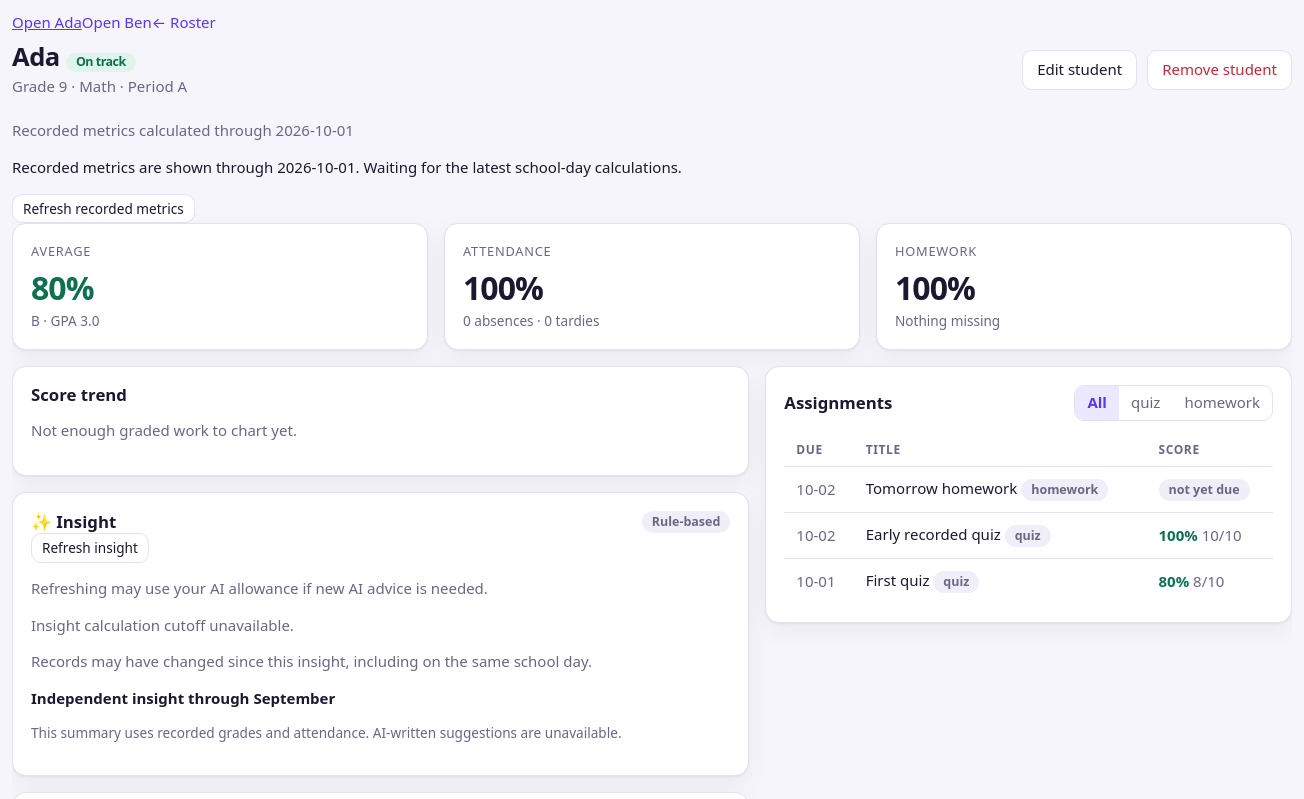
Test: bounds stale successful refreshes per ID/day, advances again later, and allows explicit recovery
Expected: the heading "Ada On track" is shown, [12,39,136,74]
Expected: the text "Recorded metrics calculated through 2026-10-01" is shown, [12,120,354,140]
Click the button "Refresh recorded metrics" at (103, 209), box [12,194,195,223]
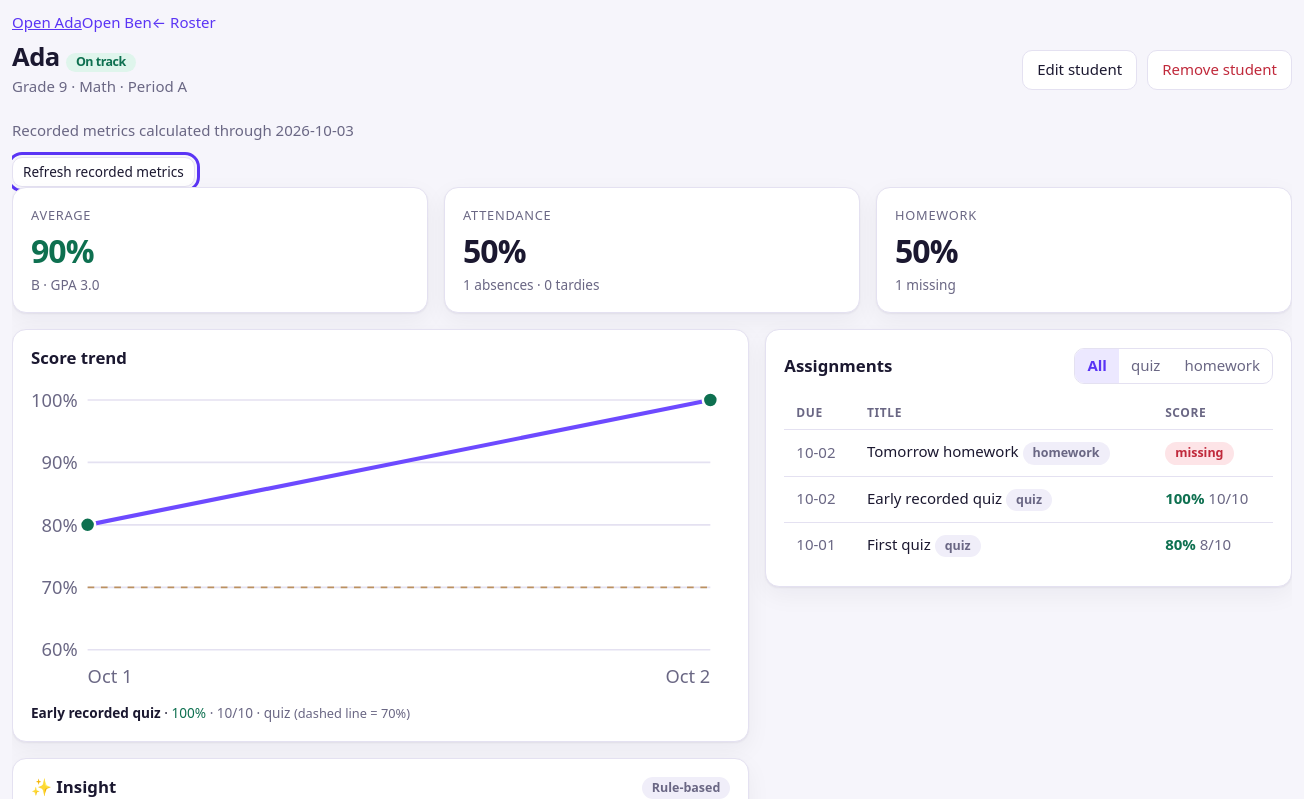
Expected: the text "Recorded metrics calculated through 2026-10-03" is shown, [12,120,354,140]
